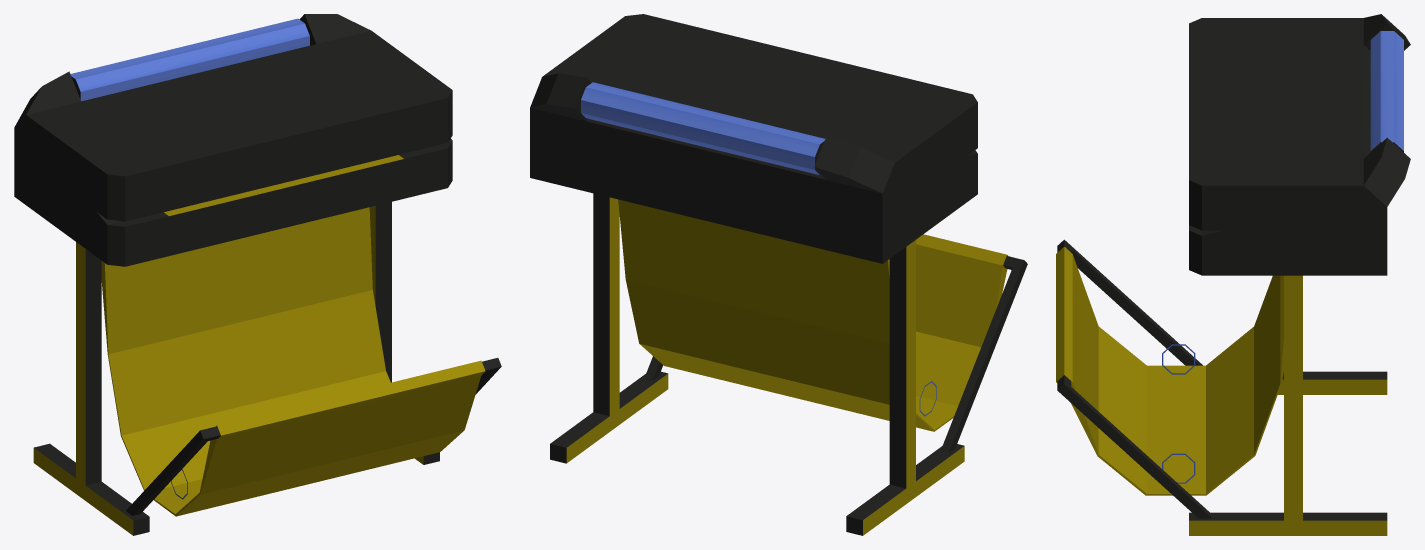
File: Blueprinter.fbx
3 renders of one model, left to right at view 1: azimuth 30°, elevation 25°; view 2: azimuth 150°, elevation 25°; view 3: azimuth 270°, elevation 25°, orthographic. The views are drawn at different scales.
Visible parts, largest first — view 1: Blueprinter; view 2: Blueprinter; view 3: Blueprinter.
Boxes of the visible parts, left/top/right/bottom form: Blueprinter: left=14, top=14, right=501, bottom=535; Blueprinter: left=530, top=14, right=1027, bottom=535; Blueprinter: left=1056, top=14, right=1410, bottom=535.
Bounding box in the file's own units: 2 × 1.79 × 2.12.
